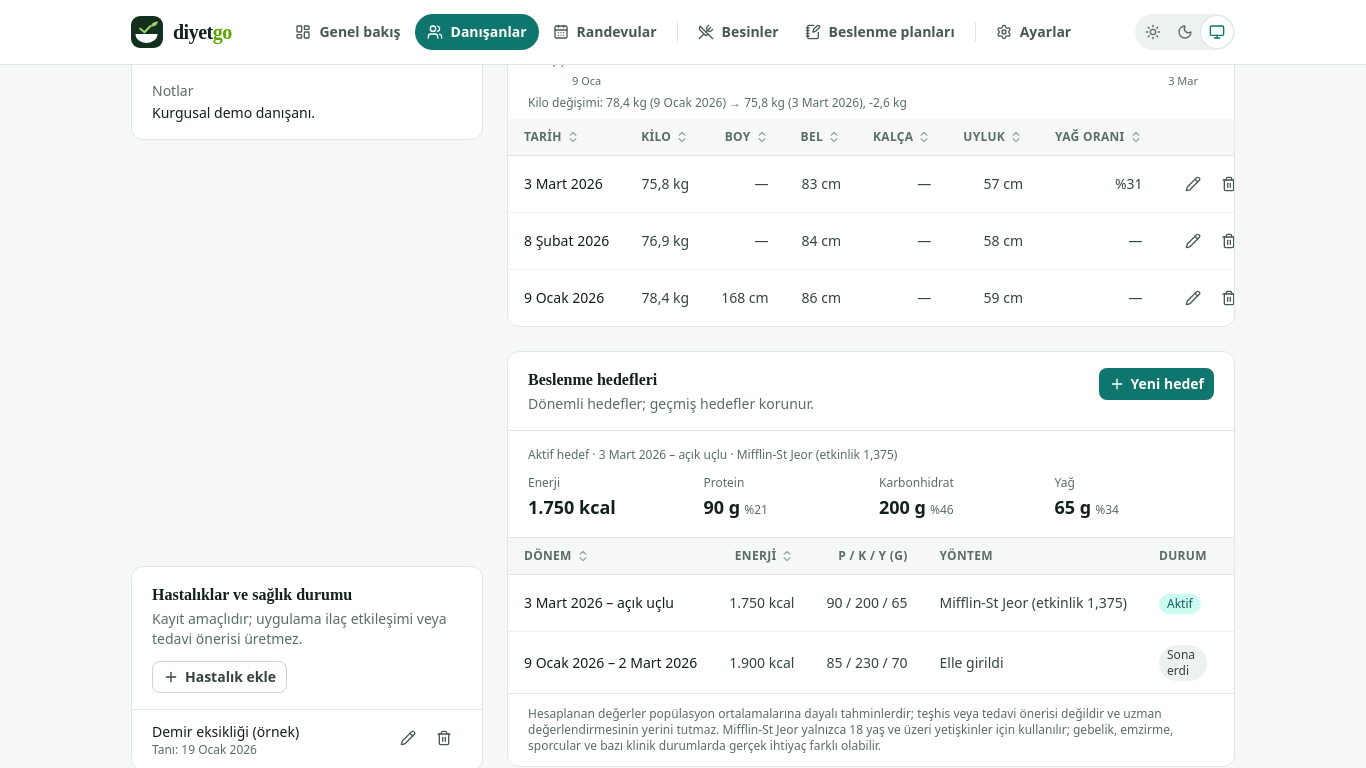
Test: Yeni hedef › eksik veya uygun olmayan veride hesaplama yapmaz ve nedenini açıklar
The image size is (1366, 768).
(page scrolled)
Expected: the table named "Hedef geçmişi" is shown, [508, 538, 1234, 693]
Click the button "Yeni hedef": (1156, 384) [1098, 368, 1214, 400]
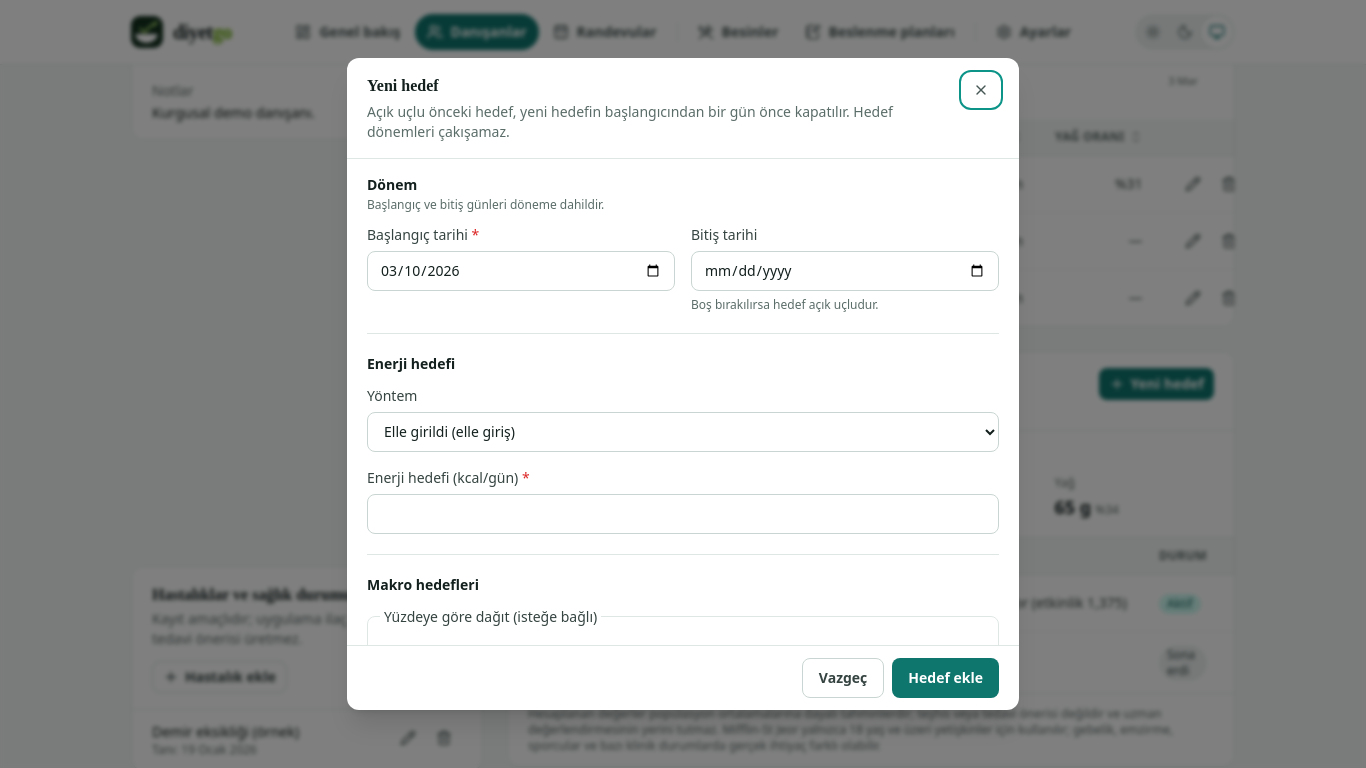
Select "Mifflin-St Jeor ile hesapla" in the dropdown labelled "Yöntem": (683, 432) [367, 412, 999, 452]
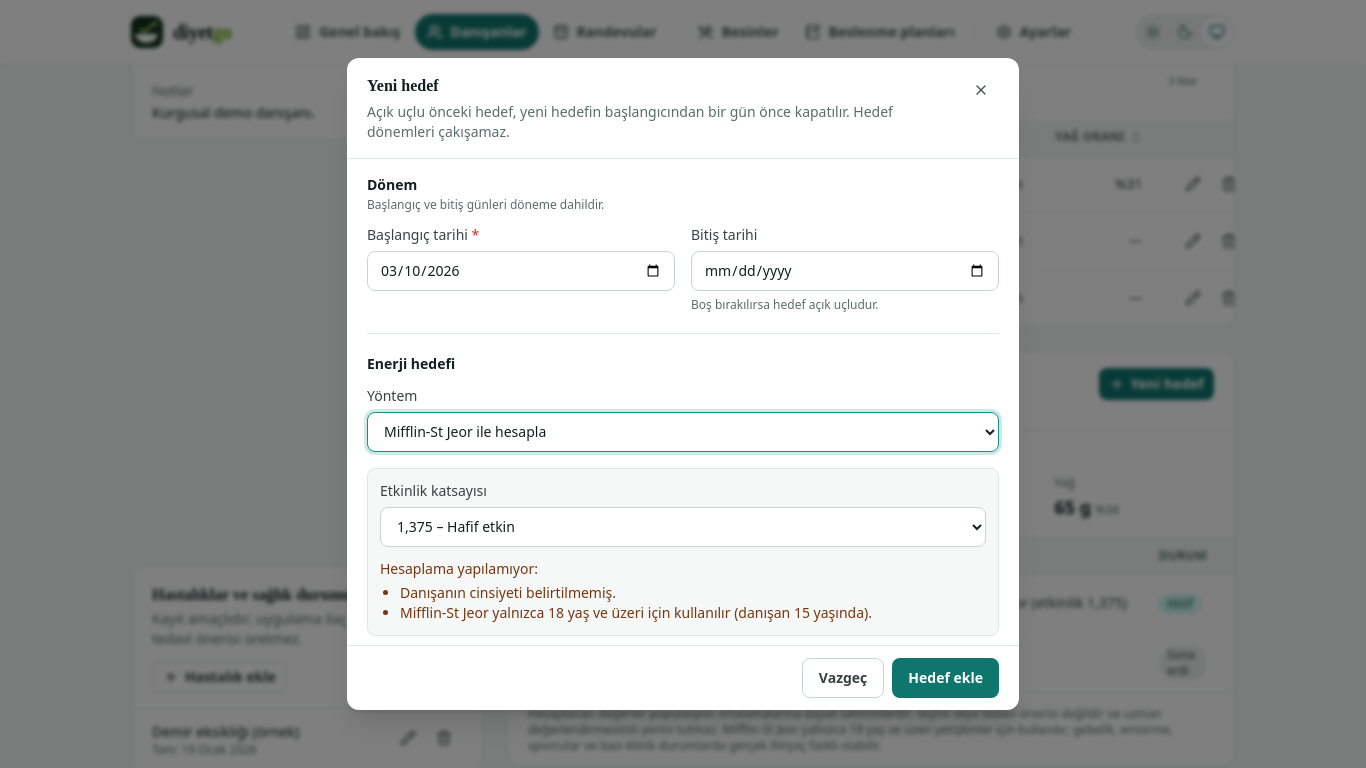
Now the list item "Danışanın cinsiyeti belirtilmemiş." is shown, box [400, 583, 616, 602]
Now the list item "Mifflin-St Jeor yalnızca 18 yaş ve üzeri için kullanılır (danışan 15 yaşında)." is shown, box [400, 603, 872, 622]
Click the button "Hedef ekle": (946, 678) [892, 658, 999, 698]
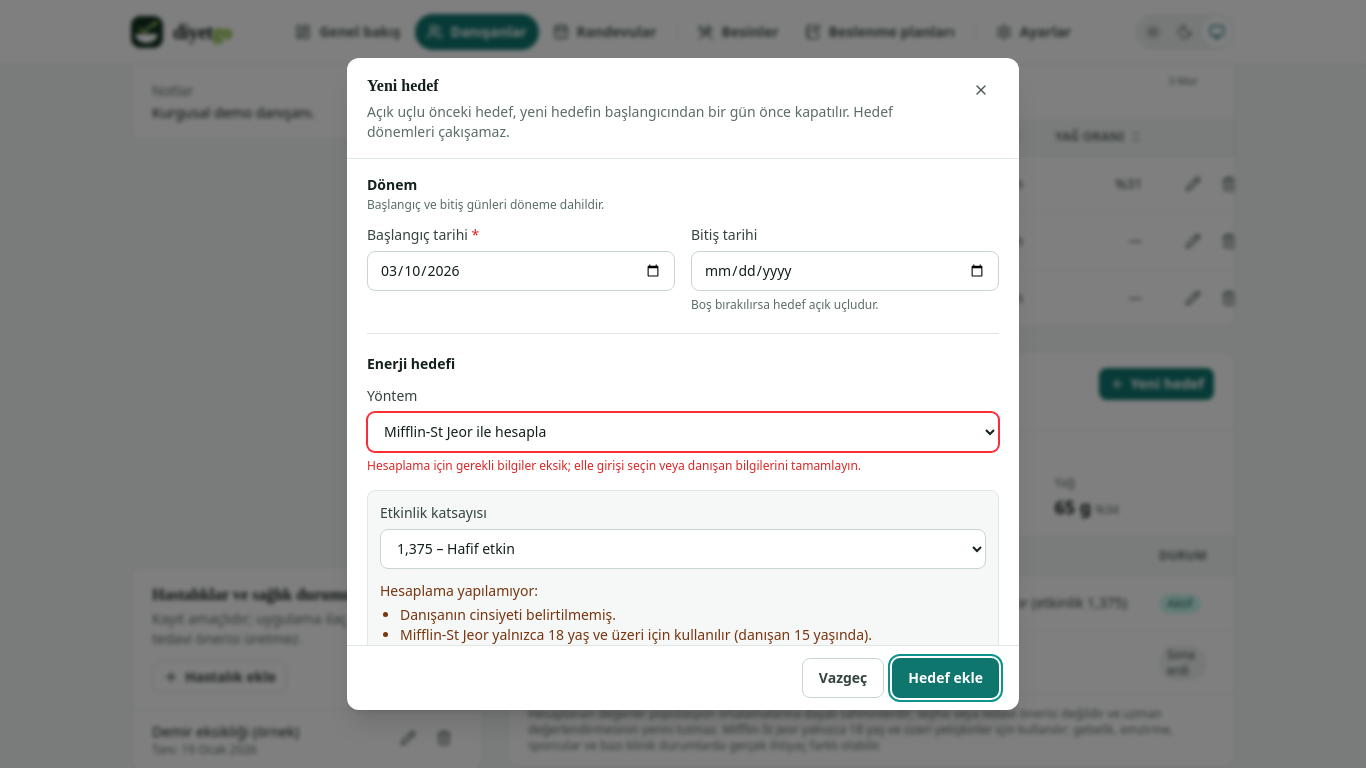
Now the text "Hesaplama için gerekli bilgiler eksik" is shown, box [367, 457, 861, 474]
